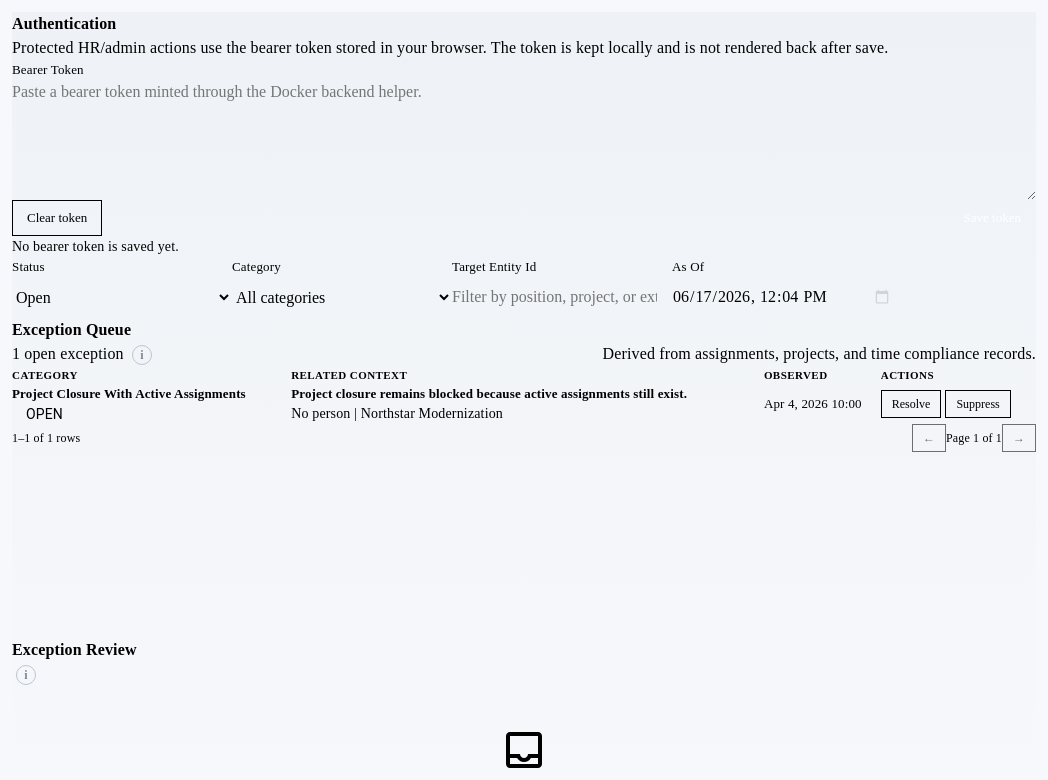
Scenario: ExceptionsPage › links project closure conflicts into project override controls
Step 1. Click the text "Project closure remains blocked because active assignments still exist." → click(489, 393), box [291,386,687,401]
(page scrolled)
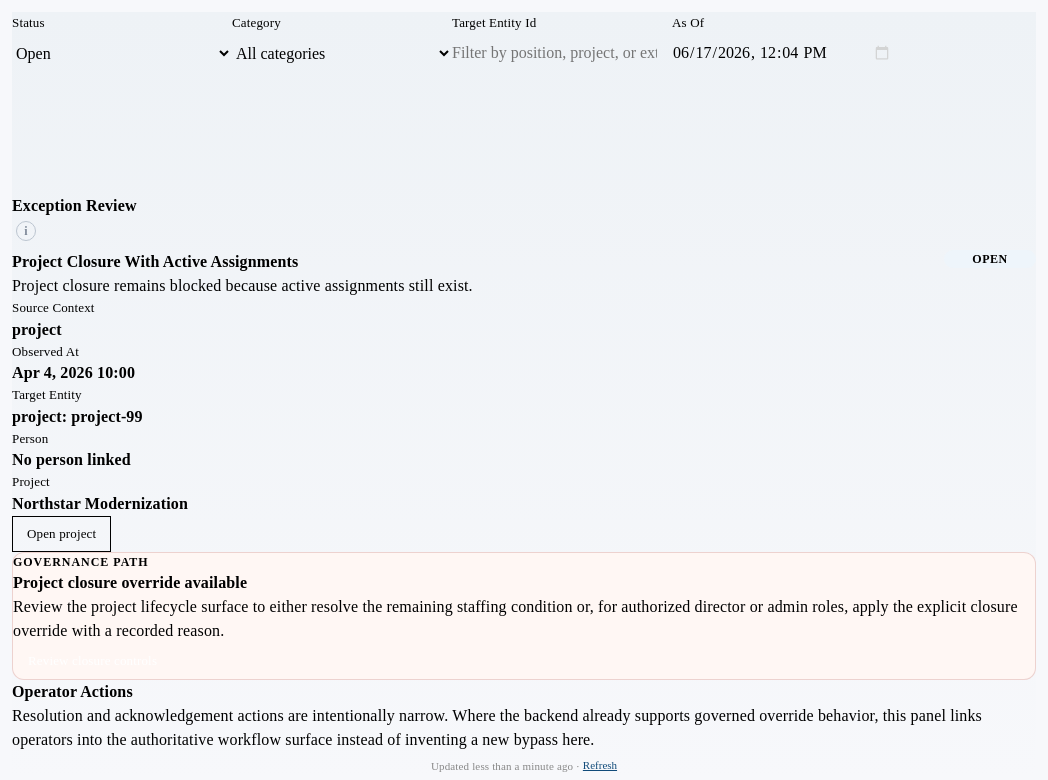
Expected: the text "Project closure override available" is shown, [13,574,247,590]
